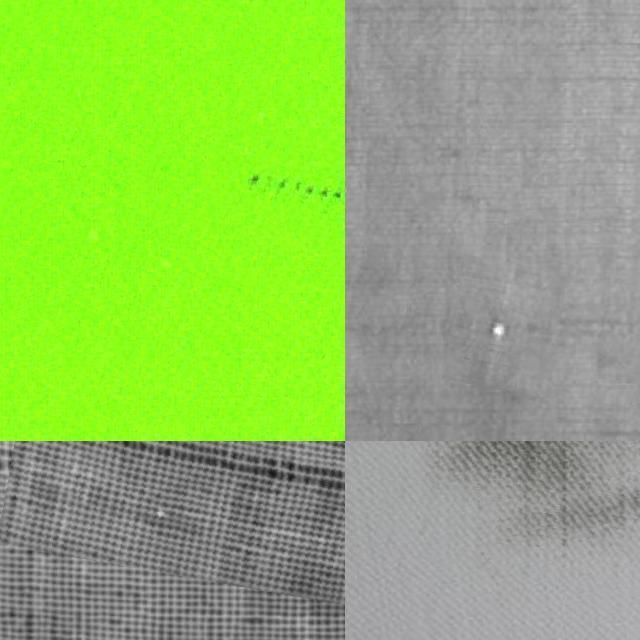Hole: (380, 441, 640, 590)
Thread_other: (10, 441, 345, 625), (198, 129, 345, 257)
seam: (447, 258, 563, 393)
